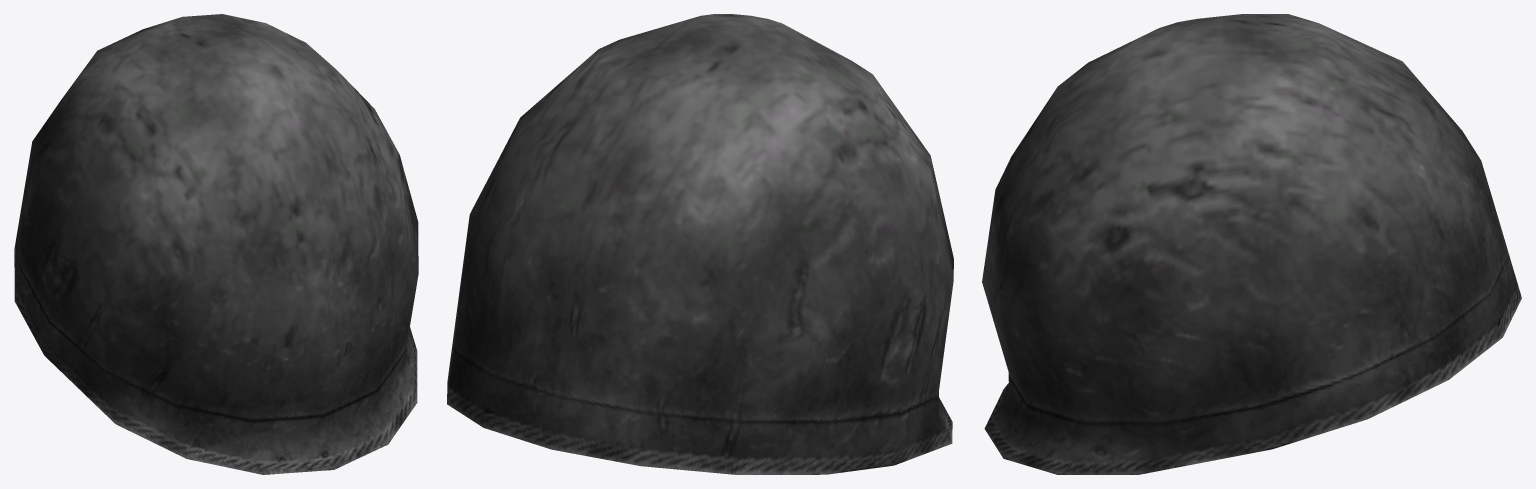
Rendered from helm_iber_helmet_cigarralejo_01.glb.
The picture shows the model from 3 angles, left to right: view 1: azimuth 30°, elevation 25°; view 2: azimuth 150°, elevation 25°; view 3: azimuth 270°, elevation 25°; orthographic projection. The views are drawn at different scales.
Parts seen in each view (by area): view 1: helm_iber_helmet_cigarralejo_01_part0; view 2: helm_iber_helmet_cigarralejo_01_part0; view 3: helm_iber_helmet_cigarralejo_01_part0.
Boxes of the visible parts, x1=… form: helm_iber_helmet_cigarralejo_01_part0: x1=14, y1=14, x2=418, y2=474; helm_iber_helmet_cigarralejo_01_part0: x1=447, y1=14, x2=953, y2=474; helm_iber_helmet_cigarralejo_01_part0: x1=982, y1=14, x2=1521, y2=474.
Size of the model in its own units: 0.439 by 0.4529 by 0.5532.
Materials: 1 (1 with a texture image).
